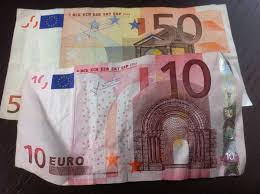billete: (15, 53, 246, 185), (1, 4, 254, 119)
